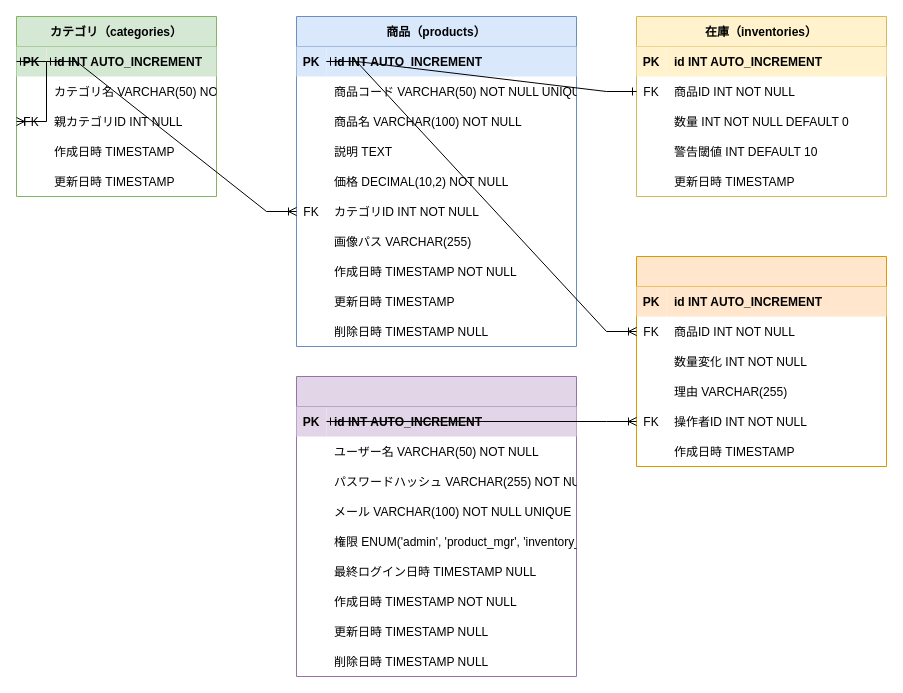
This 903x693 diagram has some shape labels left out. The box of each missing label's shape, as (x1, y1, x2, y2) in pixels:
ユーザー（users）: (296, 376, 576, 676)
在庫履歴（inventory_histories）: (636, 256, 886, 466)
